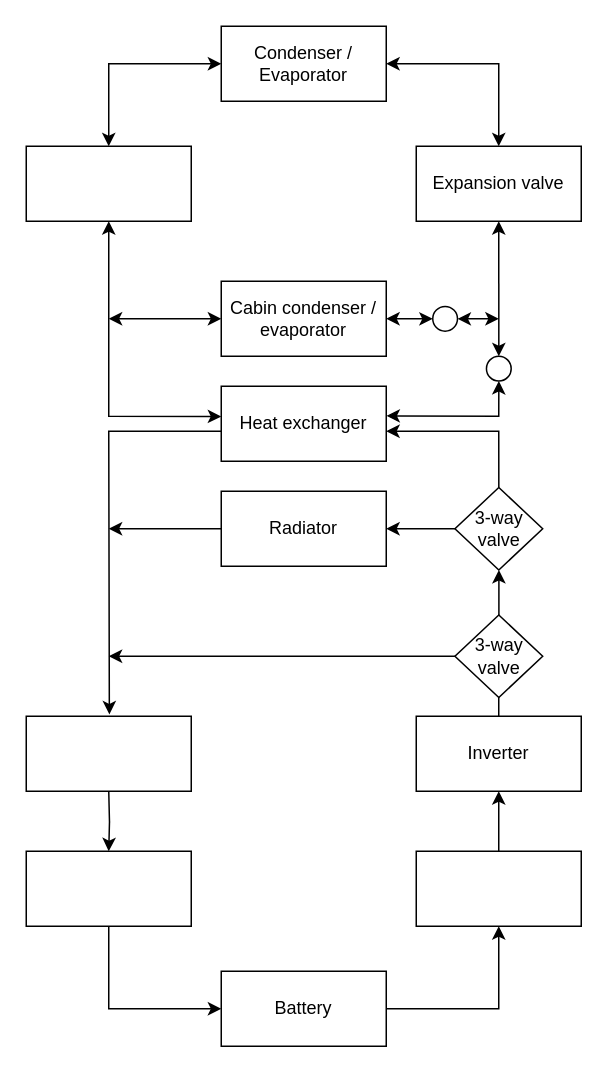
The diagram is 608 pixels wide and 1073 high, and some of its shapes have lost their labels. Each missing label, with the centre of its shape:
Compressor: (x=108, y=183)
Inline heater: (x=108, y=888)
Motor: (x=498, y=888)
Pump: (x=108, y=753)
